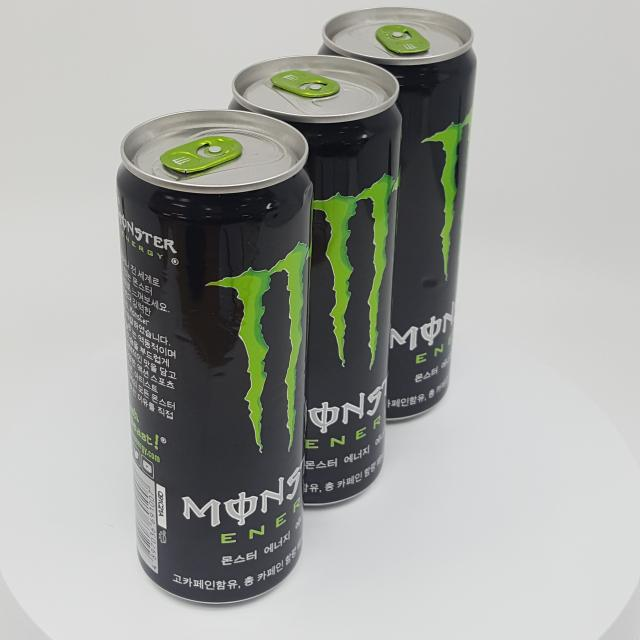--------355ML: (116, 109, 312, 604), (228, 54, 404, 507), (317, 6, 476, 422)
